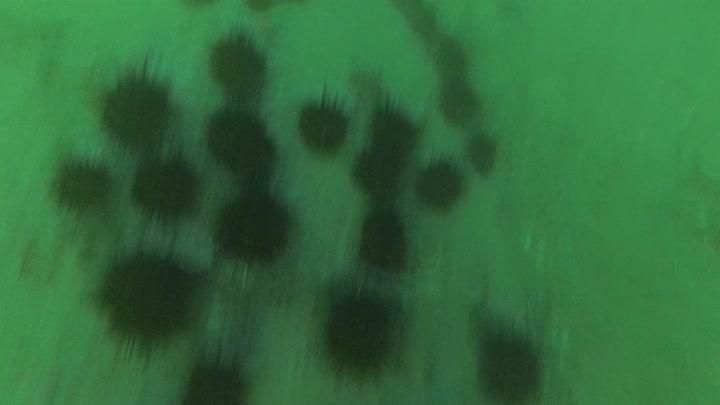urchin: (87, 248, 207, 367), (96, 57, 174, 150), (212, 186, 297, 267), (315, 289, 391, 379), (199, 105, 279, 184), (130, 152, 204, 228), (469, 330, 537, 405), (205, 31, 274, 103), (48, 157, 118, 221), (293, 87, 353, 160), (356, 206, 418, 275), (175, 356, 249, 405), (365, 99, 422, 160), (416, 153, 468, 216), (351, 149, 401, 207), (433, 80, 489, 126), (462, 131, 497, 178)
